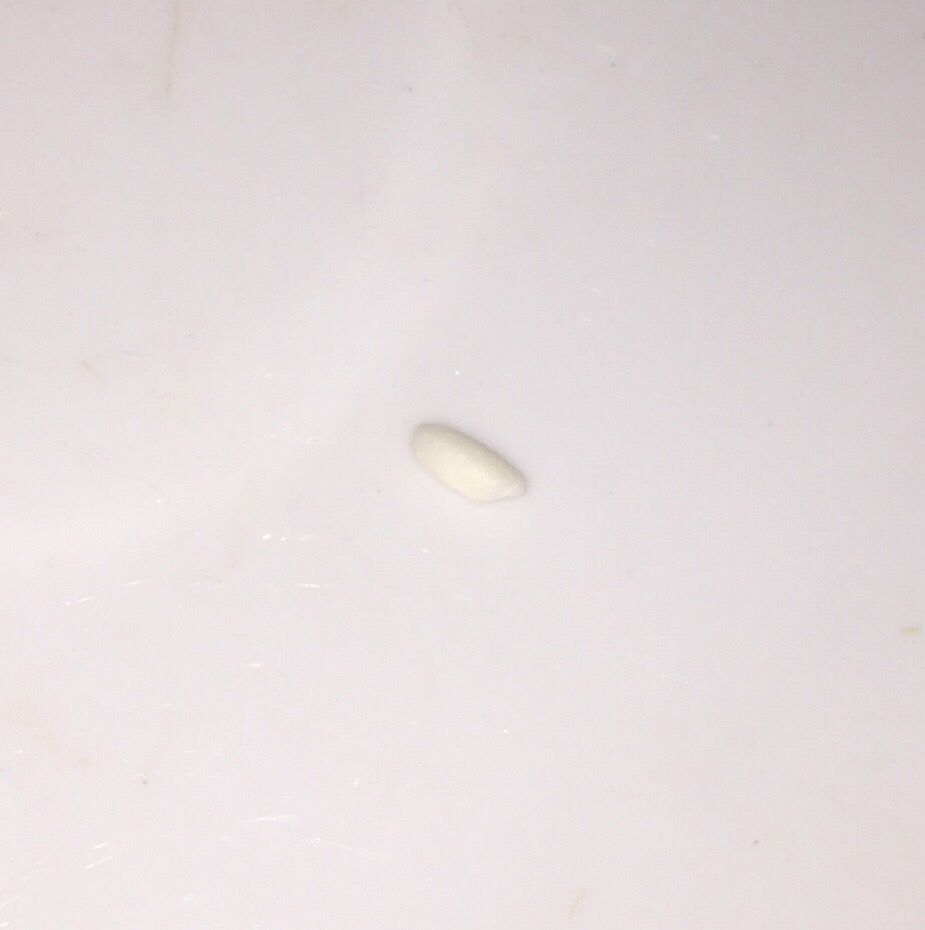Gao Nep Sap: (394, 409, 533, 520)
